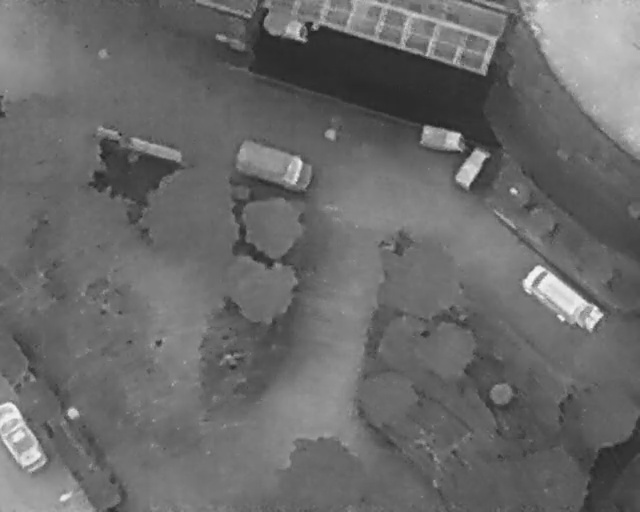Car: (518, 258, 607, 339), (232, 137, 318, 196), (1, 401, 50, 476), (453, 142, 495, 193), (419, 122, 470, 155)
